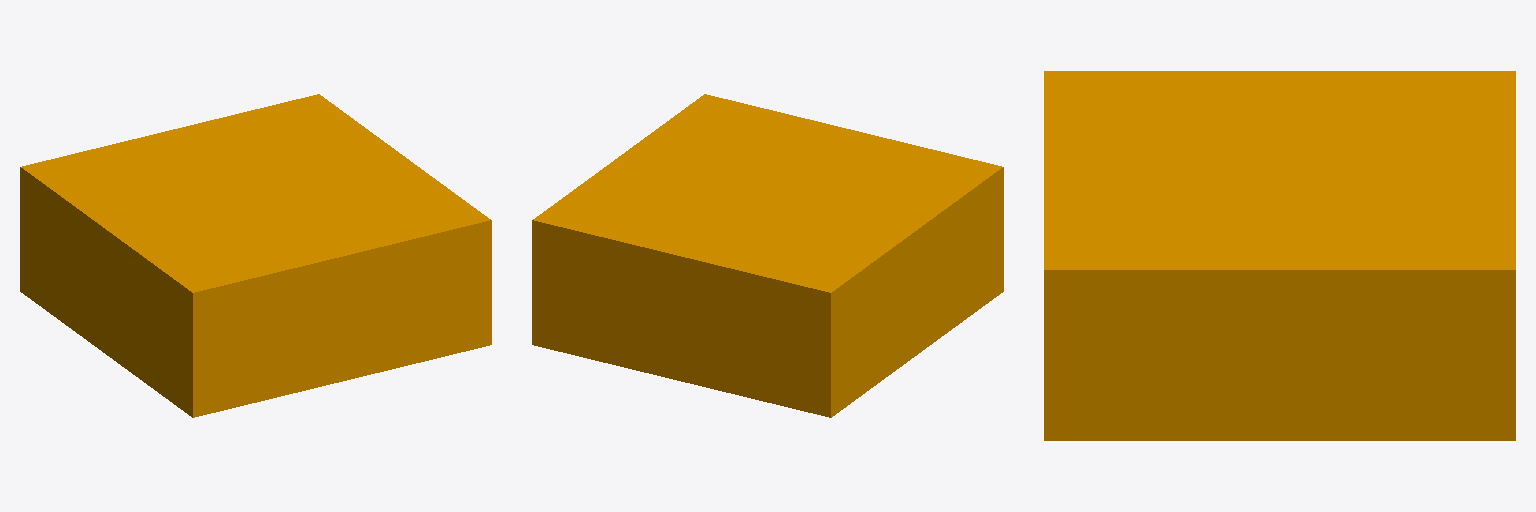
URDF robot description (object):
<?xml version="0.0"?>
	<robot name="object">
		<link name="object">
			<visual>
				<origin xyz="0 0 0"/>
				<geometry>
					<box size="0.5 0.5 0.2"/>
				</geometry>
			</visual>
			<inertial>
				<mass value="5.000"/>
			</inertial>
			<collision>
				<origin xyz="0 0 0"/>
				<geometry>
					<box size="0.5 0.5 0.2"/>
				</geometry>
			</collision>
		</link>

	</robot>

--- Render facts (derived) ---
The picture shows the robot from 3 angles, left to right: view 1: azimuth 30°, elevation 25°; view 2: azimuth 150°, elevation 25°; view 3: azimuth 270°, elevation 25°; orthographic projection.
Robot: object — 1 links, 0 joints (none); root link object; default pose: all joints at 0.
Links seen in each view (by area): view 1: object; view 2: object; view 3: object.
Boxes of the visible links, x1,y1,x2,y2 form: object: (20, 94, 491, 417); object: (532, 94, 1003, 417); object: (1044, 71, 1515, 440).
Size in the robot's own frame: 0.5 by 0.5 by 0.2 metres.
Geometry: primitives only (box / cylinder / sphere), no mesh files.